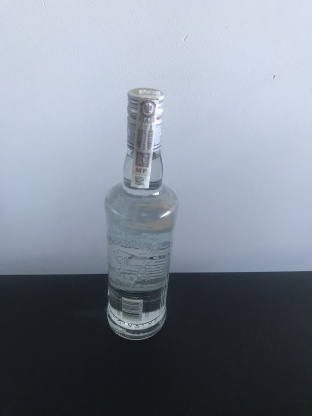nakretka: (124, 84, 166, 156)
